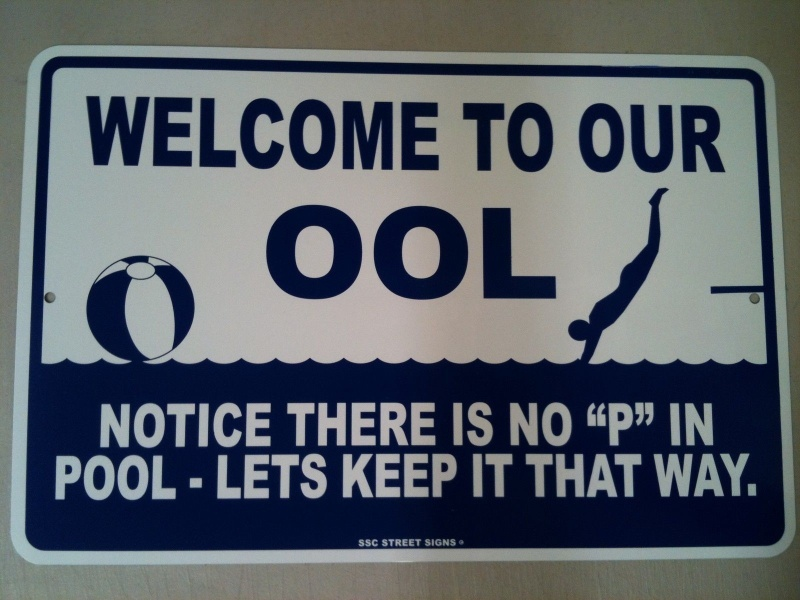text: (273, 202, 288, 303), (289, 202, 304, 303), (305, 202, 320, 303), (321, 202, 336, 303), (337, 202, 352, 303), (353, 202, 368, 303), (369, 202, 384, 303), (385, 202, 400, 303), (401, 202, 416, 303), (417, 202, 432, 303), (433, 202, 448, 303), (449, 202, 464, 303), (465, 202, 480, 303), (481, 202, 496, 303), (497, 202, 512, 303), (513, 202, 528, 303), (529, 202, 544, 303), (545, 202, 560, 303), (97, 94, 112, 173), (113, 94, 128, 173), (129, 94, 144, 173), (145, 94, 160, 173), (161, 94, 176, 173), (177, 94, 192, 173), (193, 94, 208, 173), (209, 94, 224, 173), (225, 94, 240, 173), (241, 94, 256, 173), (257, 94, 272, 173), (273, 94, 288, 173), (289, 94, 304, 173), (305, 94, 320, 173), (321, 94, 336, 173), (337, 94, 352, 173), (353, 94, 368, 173), (369, 94, 384, 173), (385, 94, 400, 173), (401, 94, 416, 173), (417, 94, 432, 173), (465, 102, 480, 176), (481, 102, 496, 176), (497, 102, 512, 176), (513, 102, 528, 176), (529, 102, 544, 176), (577, 102, 592, 175), (593, 102, 608, 175), (609, 102, 624, 175), (625, 102, 640, 175), (641, 102, 656, 175), (657, 102, 672, 175), (673, 102, 688, 175), (689, 102, 704, 175), (705, 102, 720, 175), (84, 94, 96, 173), (545, 102, 557, 176), (257, 403, 273, 450), (265, 202, 272, 303), (65, 455, 80, 502), (81, 455, 96, 502), (97, 455, 112, 502), (113, 455, 128, 502), (129, 455, 144, 502), (145, 455, 160, 502), (161, 455, 176, 502), (113, 403, 128, 450), (129, 403, 144, 450), (145, 403, 160, 450), (161, 403, 176, 450), (177, 403, 192, 450), (193, 403, 208, 450), (209, 403, 224, 450), (225, 403, 240, 450), (241, 403, 256, 450), (465, 401, 480, 448), (481, 401, 496, 448), (225, 454, 240, 501), (241, 454, 256, 501), (257, 454, 272, 501), (273, 454, 288, 501), (289, 454, 304, 501), (305, 454, 320, 501), (529, 453, 544, 499), (545, 453, 560, 499), (561, 453, 576, 499), (577, 453, 592, 499), (593, 453, 608, 499), (609, 453, 624, 499), (625, 453, 640, 499), (657, 452, 672, 498), (673, 452, 688, 498), (689, 452, 704, 498), (705, 452, 720, 498), (721, 452, 736, 498), (737, 452, 752, 498), (289, 402, 304, 447), (305, 402, 320, 447), (321, 402, 336, 447), (337, 402, 352, 447), (353, 402, 368, 447), (369, 402, 384, 447), (385, 402, 400, 447), (401, 402, 416, 447), (417, 402, 432, 447), (513, 402, 528, 447), (529, 402, 544, 447), (545, 402, 560, 447), (593, 402, 608, 447), (609, 402, 624, 447), (625, 402, 640, 447), (641, 402, 656, 447), (353, 454, 368, 499), (369, 454, 384, 499), (385, 454, 400, 499), (401, 454, 416, 499), (417, 454, 432, 499), (433, 454, 448, 499), (481, 453, 496, 498), (497, 453, 512, 498), (673, 403, 688, 447), (689, 403, 704, 447), (433, 94, 441, 173), (561, 402, 574, 447), (100, 403, 112, 450), (453, 401, 464, 448), (721, 102, 728, 175), (705, 403, 716, 447), (342, 454, 352, 499), (449, 454, 459, 499), (55, 455, 64, 502), (321, 454, 329, 501), (472, 453, 480, 498), (217, 454, 224, 501), (753, 452, 759, 498), (193, 475, 207, 494), (433, 402, 438, 447), (587, 402, 592, 447), (461, 102, 464, 176), (508, 402, 512, 447), (525, 453, 528, 499), (641, 453, 644, 499), (385, 539, 400, 548), (401, 539, 416, 548), (433, 539, 448, 547), (186, 475, 192, 494), (177, 455, 179, 502), (654, 452, 656, 498), (358, 539, 368, 548), (369, 539, 379, 548), (670, 403, 672, 447), (424, 539, 432, 547), (449, 539, 456, 547), (287, 402, 288, 447), (513, 453, 514, 498), (417, 539, 422, 548), (381, 539, 384, 548)
